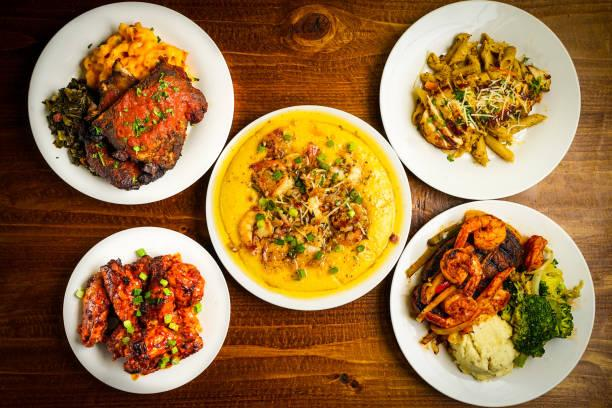Braised Crucian Carp: (25, 2, 234, 209), (388, 199, 593, 408), (205, 105, 407, 310), (379, 0, 579, 203), (61, 226, 228, 396)
